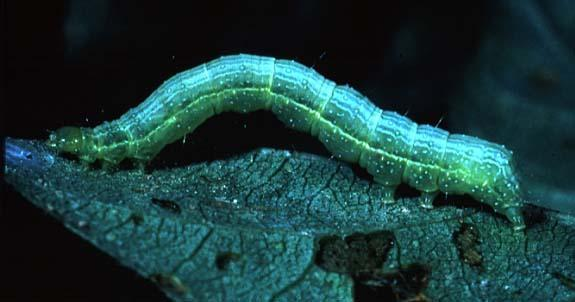Armyworm: (31, 39, 547, 235)
